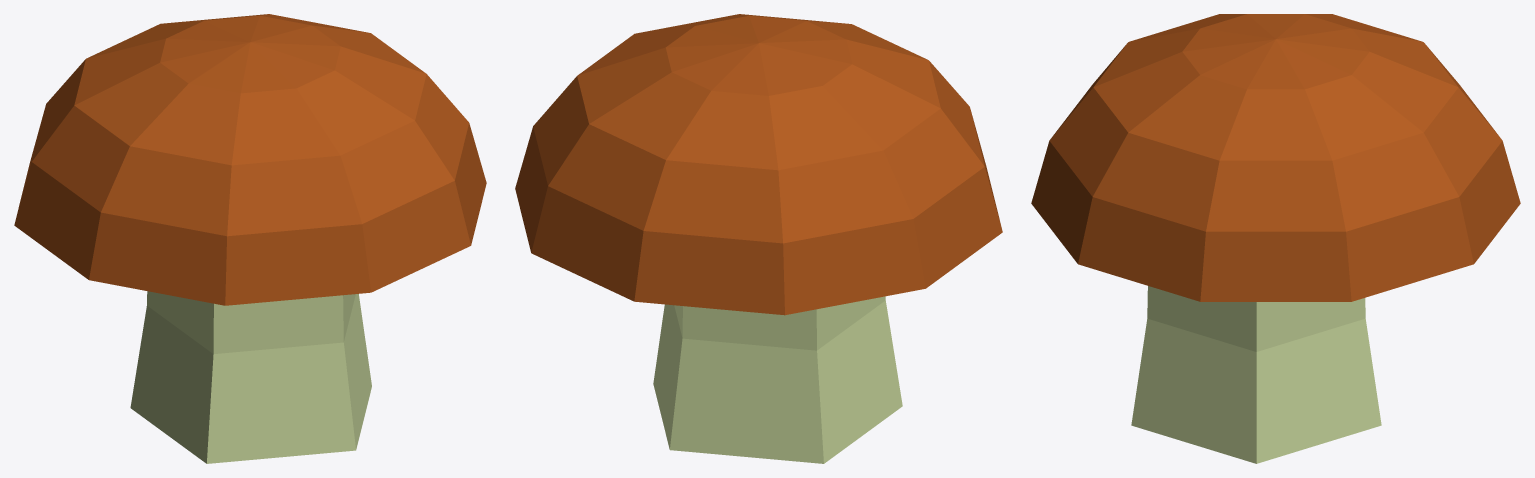
File: Mushroom_h_01.fbx
The picture shows the model from 3 angles, left to right: view 1: azimuth 30°, elevation 25°; view 2: azimuth 150°, elevation 25°; view 3: azimuth 270°, elevation 25°; orthographic projection. The views are drawn at different scales.
Visible parts, largest first — view 1: Mushroom_h_01_LOD0; view 2: Mushroom_h_01_LOD0; view 3: Mushroom_h_01_LOD0.
Part boxes in pixels (<box>): Mushroom_h_01_LOD0: <box>14,14,486,463</box>; Mushroom_h_01_LOD0: <box>515,14,1002,463</box>; Mushroom_h_01_LOD0: <box>1031,14,1520,463</box>.
Size of what is drawn, in the model's own units: 5.26 by 4.6 by 5.53.
